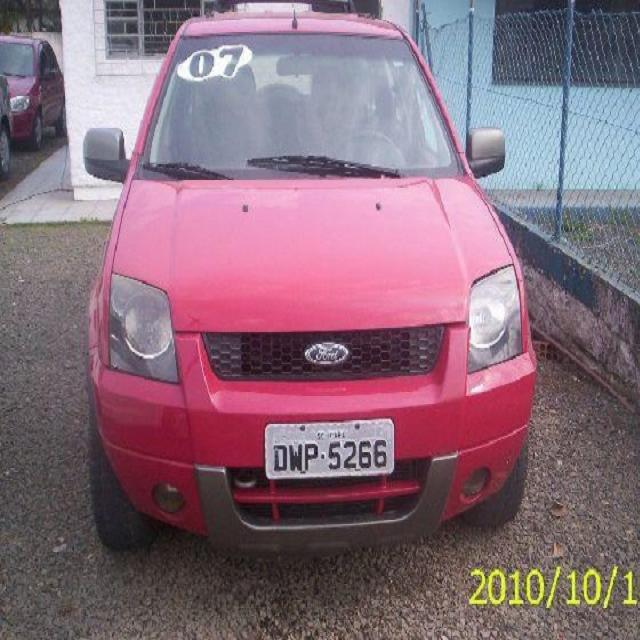Placa: (263, 415, 395, 483)
